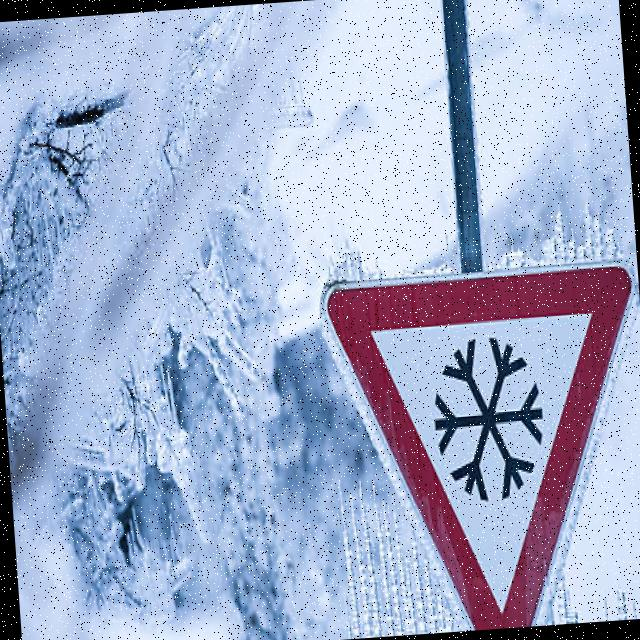snow_warning: (309, 237, 640, 640)
